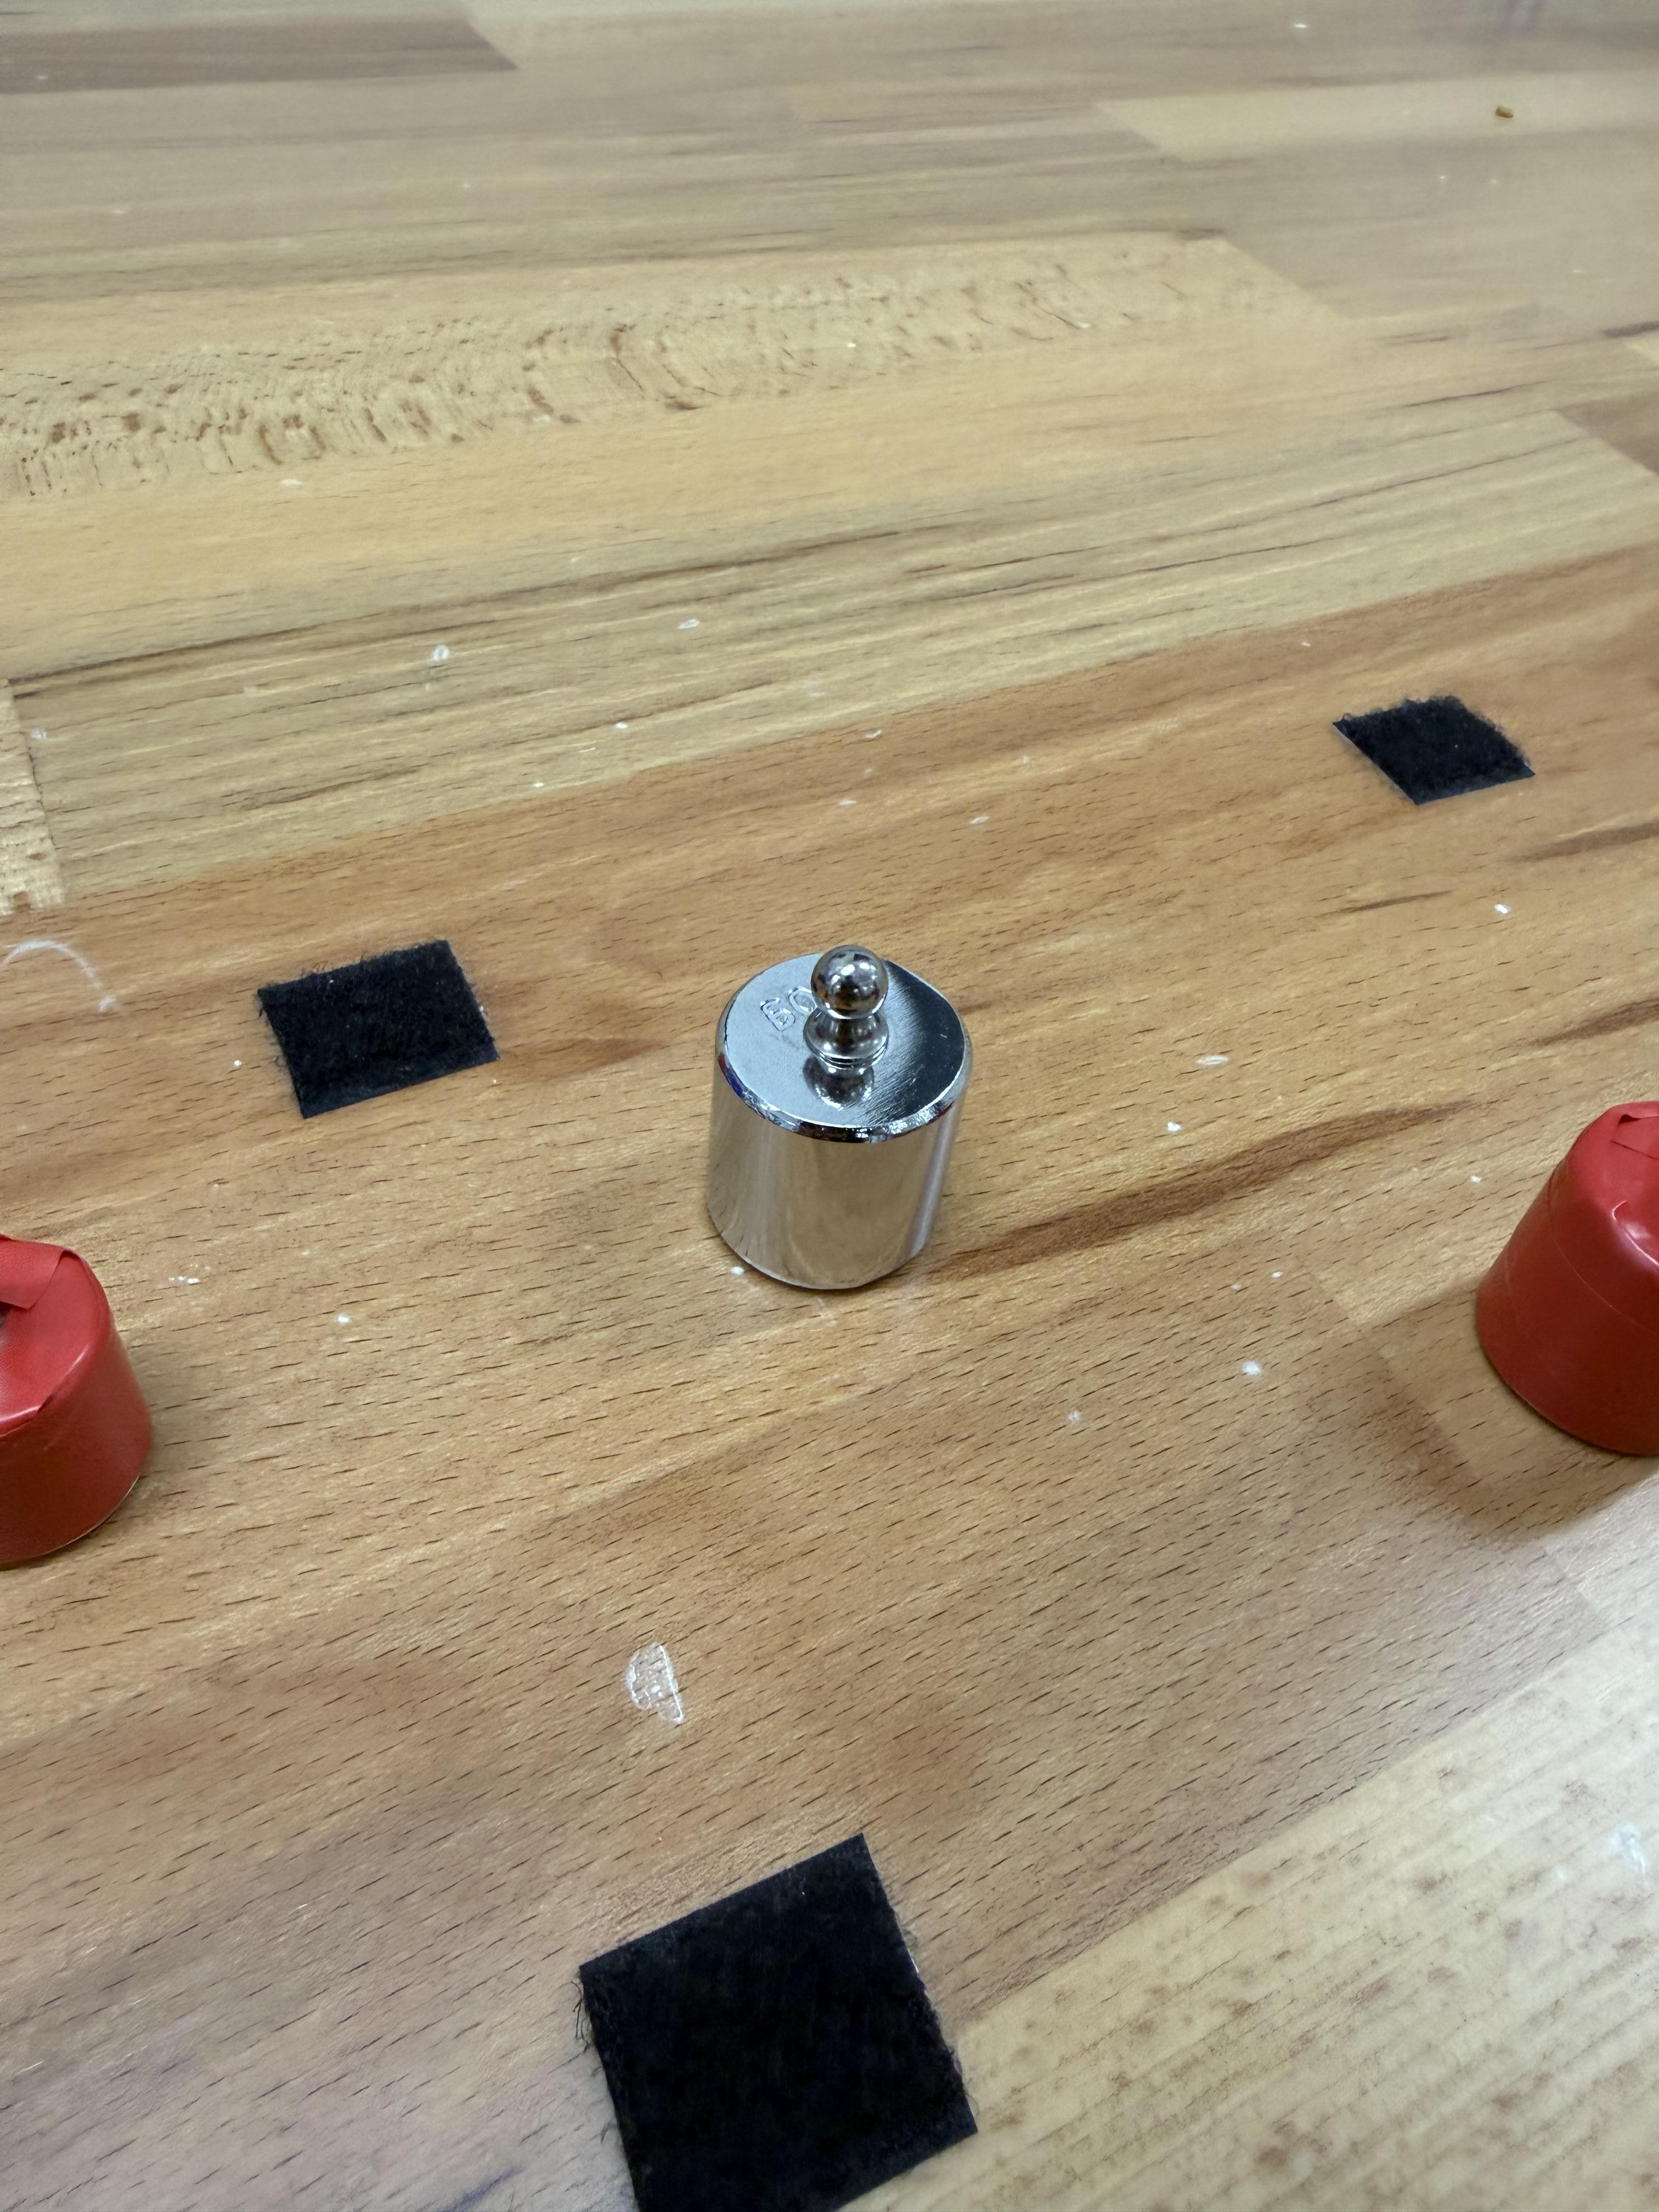red_object: (1453, 1076, 1659, 1468), (10, 1148, 148, 1608)
